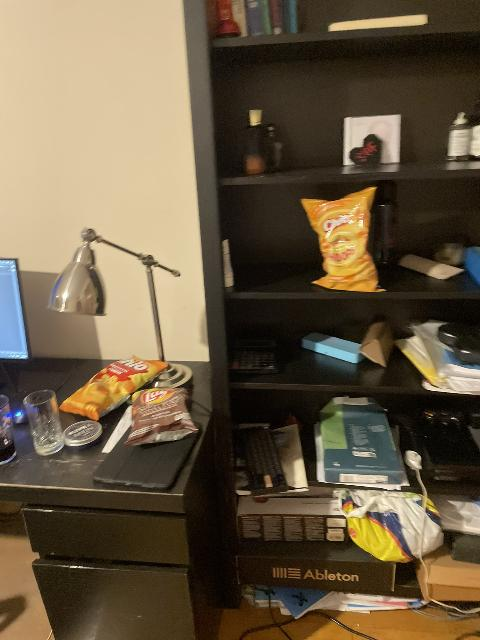Chio Cascaval 125g: (59, 355, 171, 420)
Chio Hula Hoops Cheese 70g: (297, 190, 379, 295)
Lays Beef Grilled Ribs 125g: (123, 386, 199, 446)
